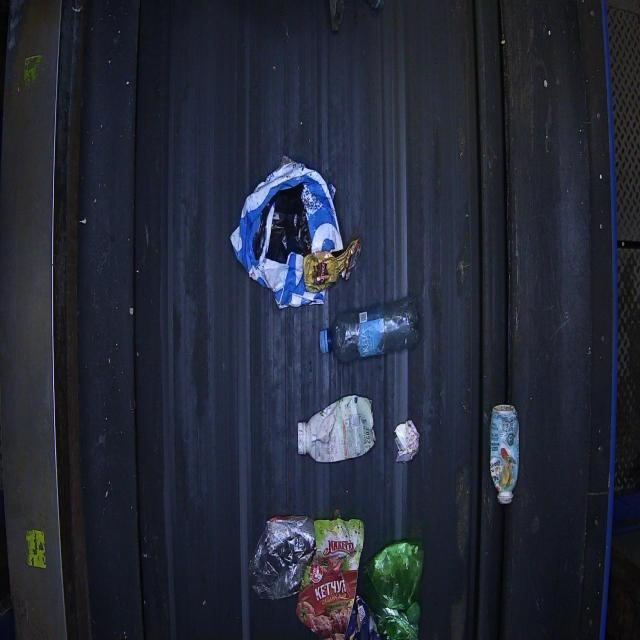E-waste: (228, 156, 361, 309)
cups: (318, 298, 420, 362), (488, 403, 519, 504)
